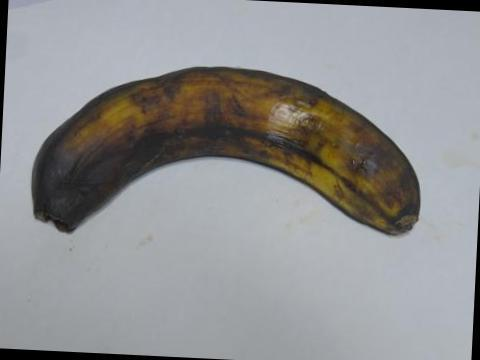overripe: (19, 55, 437, 271)
